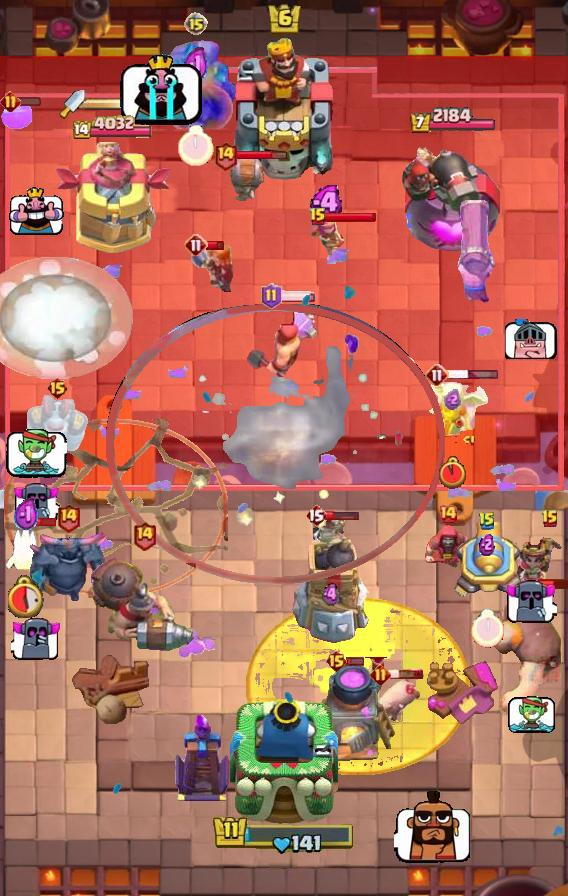balloon: (492, 581, 568, 721)
bar: (55, 142, 173, 256)
bat: (5, 521, 47, 575)
battle-healer: (452, 200, 498, 304)
bomber-evolution: (512, 533, 567, 595)
bowler: (423, 524, 473, 574)
cannon: (308, 214, 348, 258)
cannoneer-tower: (151, 39, 241, 129)
clock: (212, 814, 356, 856)
electro-spirit: (309, 185, 347, 221), (183, 47, 209, 86), (14, 497, 39, 535), (321, 582, 339, 608), (479, 532, 495, 556), (444, 390, 461, 411)
elixir: (8, 575, 45, 618), (178, 125, 214, 167), (471, 609, 505, 648), (439, 456, 466, 489)
elixir-golem-small: (24, 394, 90, 454)
emote: (325, 211, 377, 223), (236, 150, 289, 161), (447, 369, 499, 380), (279, 290, 317, 302), (388, 668, 424, 680), (325, 509, 360, 521), (23, 516, 58, 528), (6, 96, 42, 107), (538, 578, 568, 591), (207, 241, 226, 252), (347, 656, 366, 667)
giant: (367, 679, 423, 729)
golemite: (25, 527, 111, 603)
guard: (4, 418, 228, 597)
hog-rider: (190, 244, 238, 294)
hunter: (309, 657, 399, 765)
ice-spirit-evolution-symbol: (172, 711, 232, 803)
king-tower: (228, 35, 340, 181), (230, 698, 338, 826)
king-tower-bar: (85, 97, 155, 111)
knight: (217, 156, 269, 202)
mighty-miner: (247, 301, 321, 383)
miner: (0, 99, 32, 129)
phoenix-egg: (246, 597, 470, 775)
poison: (412, 375, 492, 447)
royal-ghost: (106, 304, 445, 584)
royal-recruit: (449, 522, 525, 602)
selected: (409, 107, 497, 135), (73, 114, 155, 141)
skeleton: (119, 49, 203, 126), (395, 789, 474, 863), (5, 429, 66, 478), (8, 187, 63, 237), (505, 578, 557, 624), (10, 616, 61, 661), (506, 319, 559, 359), (12, 481, 59, 523), (507, 696, 555, 734)
text: (213, 140, 238, 171), (131, 520, 156, 551), (55, 503, 80, 533), (184, 12, 208, 36), (184, 233, 208, 257), (425, 363, 449, 387), (47, 376, 70, 400), (324, 649, 347, 673), (261, 283, 282, 309), (305, 503, 327, 527), (369, 663, 390, 685), (0, 91, 20, 112), (438, 504, 458, 524), (309, 207, 327, 227), (541, 509, 559, 529), (478, 511, 496, 531)
tower-bar: (402, 136, 504, 256)
wall-breaker: (0, 257, 132, 379)
wizard: (88, 556, 200, 654)
zappy: (287, 511, 374, 647)
